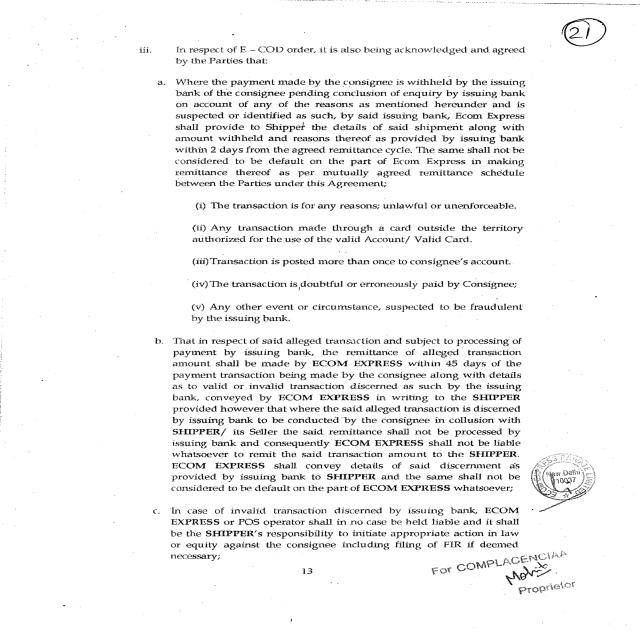page-number: (0, 0, 640, 46)
